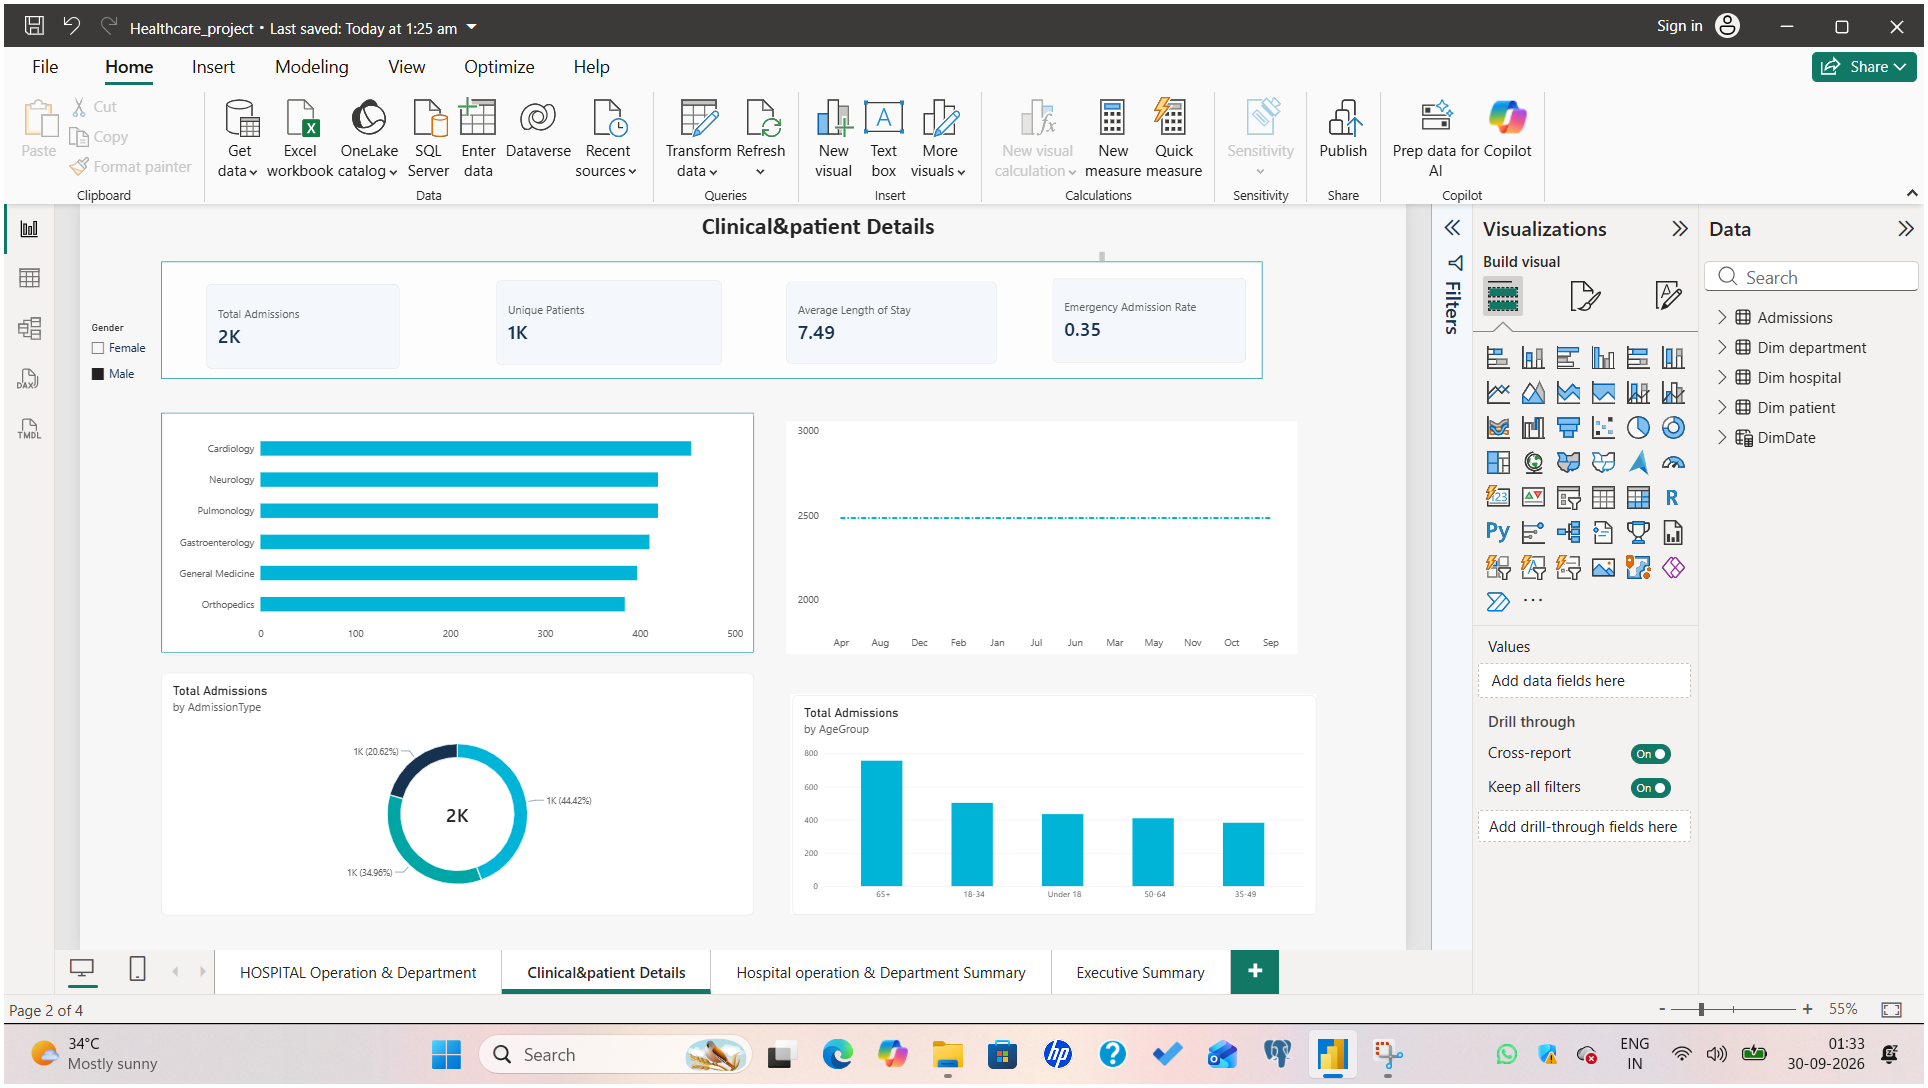

What the dashboard file says about the page in this screenshot:
{"tool":"powerbi","page":{"name":"Clinical&patient Details","canvas":[1920,1080],"ordinal":1},"visuals":[{"type":"shape","box":[119.4,678.6,805.3,349.3],"z":0},{"type":"shape","box":[1027.9,709.4,761.9,318.5],"z":1000},{"type":"shape","box":[1022.5,314.9,740.2,336.6],"z":2000},{"type":"donutChart","fields":{"Category":["Admissions.AdmissionType"],"Y":["Admissions.Total Admissions"]},"box":[117.6,678.6,857.8,351.1],"z":3000},{"type":"shape","box":[117.6,83.2,1594.3,170.1],"z":4000},{"type":"shape","box":[117.6,302.2,857.8,347.5],"z":5000},{"type":"slicer","fields":{"Values":["Admissions.Gender"]},"box":[9,170.1,146.6,240.7],"z":6000},{"type":"columnChart","fields":{"Category":["Admissions.AgeGroup"],"Y":["Admissions.Total Admissions"]},"box":[1031.5,711.2,758.2,318.5],"z":7000},{"type":"lineChart","fields":{"Category":["DimDate.Month"],"Y":["Admissions.Total Admissions"]},"box":[1022.5,302.2,740.2,363.7],"z":8000},{"type":"cardVisual","fields":{"Data":["Admissions.Total Admissions"]},"box":[182.8,115.8,280.5,123.1],"z":9000},{"type":"cardVisual","fields":{"Data":["Admissions.Unique Patients"]},"box":[602.6,110.4,327.5,123.1],"z":10000},{"type":"cardVisual","fields":{"Data":["Admissions.Average Length of Stay"]},"box":[1022.5,112.2,305.8,119.4],"z":11000},{"type":"cardVisual","fields":{"Data":["Admissions.Emergency Admission Rate"]},"box":[1407.9,106.8,280.5,123.1],"z":12000},{"type":"clusteredBarChart","fields":{"Category":["Dim department.Department"],"Y":["Admissions.Total Admissions"]},"box":[119.4,302.2,857.8,351.1],"z":13000},{"type":"textbox","box":[623,0,170,280],"z":14000},{"type":"textbox","box":[793,519,150,264],"z":15000},{"type":"textbox","box":[793,519,150,264],"z":16000},{"type":"textbox","box":[793,519,150,264],"z":17000},{"type":"textbox","box":[793,519,150,264],"z":18000},{"type":"textbox","box":[793,519,150,264],"z":19000},{"type":"textbox","box":[793,519,150,264],"z":20000},{"type":"textbox","box":[793,519,150,264],"z":21000},{"type":"textbox","box":[793,519,150,264],"z":22000},{"type":"textbox","title":"Clinical&patient Details","box":[653.3,10.9,830.6,72.4],"z":23000}]}

Visuals, with their boxes on the page's 1920x1080 design canvas (x1, y1, x2, y2). These are canvas units, not pixel positions in the 1928x1088 screenshot, which may show the page scaled, cropped or inside an application window:
shape: crop(119, 679, 925, 1028)
shape: crop(1028, 709, 1790, 1028)
shape: crop(1022, 315, 1763, 652)
donutChart - Admissions.AdmissionType x Admissions.Total Admissions: crop(118, 679, 975, 1030)
shape: crop(118, 83, 1712, 253)
shape: crop(118, 302, 975, 650)
slicer - Admissions.Gender: crop(9, 170, 156, 411)
columnChart - Admissions.AgeGroup x Admissions.Total Admissions: crop(1032, 711, 1790, 1030)
lineChart - DimDate.Month x Admissions.Total Admissions: crop(1022, 302, 1763, 666)
cardVisual - Admissions.Total Admissions: crop(183, 116, 463, 239)
cardVisual - Admissions.Unique Patients: crop(603, 110, 930, 234)
cardVisual - Admissions.Average Length of Stay: crop(1022, 112, 1328, 232)
cardVisual - Admissions.Emergency Admission Rate: crop(1408, 107, 1688, 230)
clusteredBarChart - Dim department.Department x Admissions.Total Admissions: crop(119, 302, 977, 653)
textbox: crop(623, 0, 793, 280)
textbox: crop(793, 519, 943, 783)
textbox: crop(793, 519, 943, 783)
textbox: crop(793, 519, 943, 783)
textbox: crop(793, 519, 943, 783)
textbox: crop(793, 519, 943, 783)
textbox: crop(793, 519, 943, 783)
textbox: crop(793, 519, 943, 783)
textbox: crop(793, 519, 943, 783)
"Clinical&patient Details" textbox: crop(653, 11, 1484, 83)
